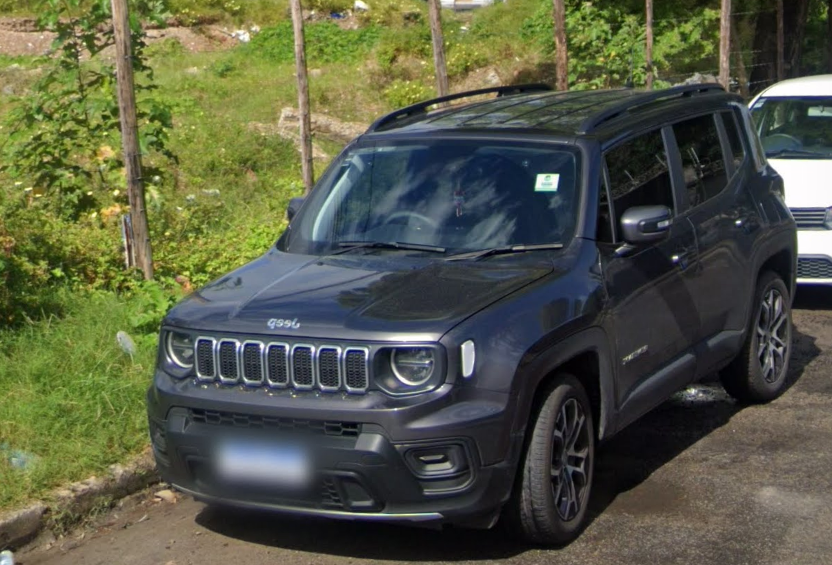car: (147, 79, 804, 537)
